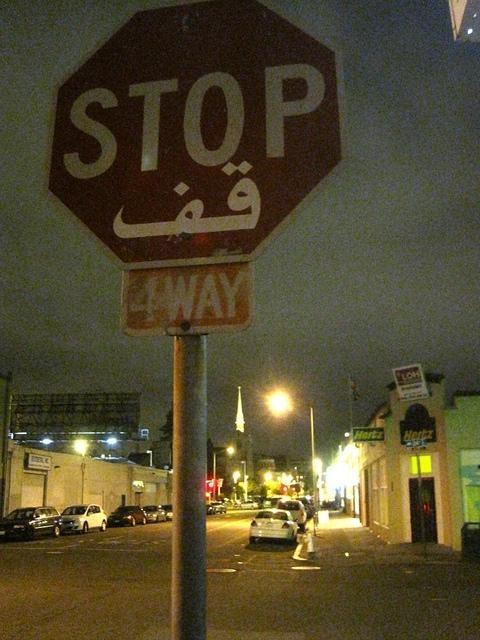car: (0, 505, 64, 541), (250, 507, 300, 544), (62, 503, 108, 534), (276, 500, 308, 530), (108, 504, 148, 526), (141, 504, 167, 522), (298, 500, 315, 519), (293, 496, 315, 507), (162, 504, 174, 522), (212, 500, 227, 514)
